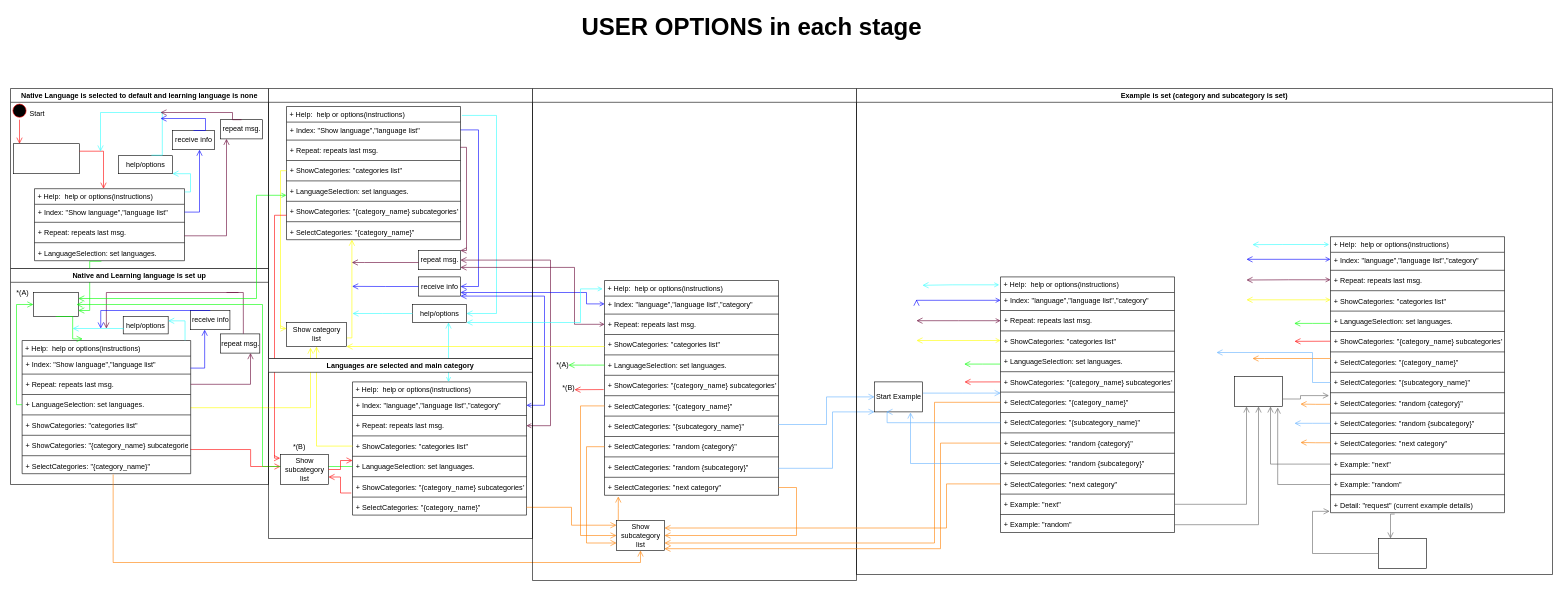
Some shapes in this 1563 by 591 pixel diagram are drawn without their labels. The centre of each missing label's shape, as x and y in pixels:
Details Shown: pixel 1258 391
Extra details Shown: pixel 1402 553
Languages are set but main category is not selected.: pixel 400 223
Native Language, Learning Language and main category is set: pixel 694 334
Set learning language: pixel 55 304
Welcome Message: pixel 46 158
